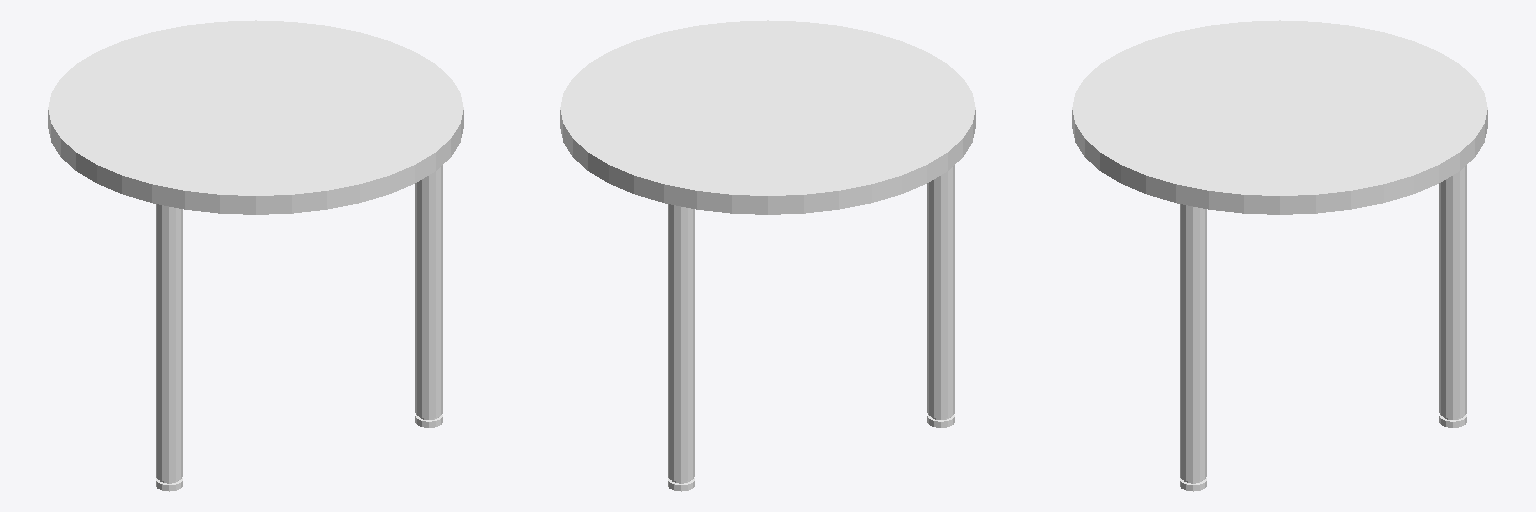
robot.urdf — Officerounddesk:
<?xml version="1.0" encoding="utf-8"?>
<!-- This URDF was automatically created by SolidWorks to URDF Exporter! Originally created by [author] ([email redacted]) 
     Commit Version: 1.5.1-0-g916b5db  Build Version: 1.5.7152.31018
     For more information, please see http://wiki.ros.org/sw_urdf_exporter -->
<robot
  name="Officerounddesk">
  <link
    name="Officerounddesk">
    <inertial>
      <origin
        xyz="-2.8108E-17 5.357E-17 0.44215"
        rpy="0 0 0" />
      <mass
        value="10.246" />
      <inertia
        ixx="0.36948"
        ixy="5.1245E-17"
        ixz="5.6607E-17"
        iyy="0.36948"
        iyz="-1.1775E-16"
        izz="0.49228" />
    </inertial>
    <visual>
      <origin
        xyz="0 0 0"
        rpy="0 0 0" />
      <geometry>
        <mesh
          filename="package://Officerounddesk/meshes/Officerounddesk.STL" />
      </geometry>
      <material
        name="">
        <color
          rgba="1 1 1 1" />
        <texture
          filename="package://Officerounddesk/textures/" />
      </material>
    </visual>
    <collision>
      <origin
        xyz="0 0 0"
        rpy="0 0 0" />
      <geometry>
        <mesh
          filename="package://Officerounddesk/meshes/Officerounddesk.STL" />
      </geometry>
    </collision>
  </link>
</robot>

--- Render facts (derived) ---
3 views of the same robot in one strip: view 1: azimuth 30°, elevation 25°; view 2: azimuth 150°, elevation 25°; view 3: azimuth 270°, elevation 25° (orthographic).
Model Officerounddesk with 1 links and 0 joints (none), rooted at Officerounddesk, posed every joint at zero.
Links seen in each view (by area): view 1: Officerounddesk; view 2: Officerounddesk; view 3: Officerounddesk.
Boxes of the visible links, <box> form: Officerounddesk: <box>48,20,463,491</box>; Officerounddesk: <box>560,20,975,491</box>; Officerounddesk: <box>1072,20,1487,491</box>.
Bounding box of the posed robot: 0.6 × 0.6 × 0.5 m (x, y, z).
Meshes: 1 distinct files referenced, 1 mesh visuals loaded (1 binary STL).